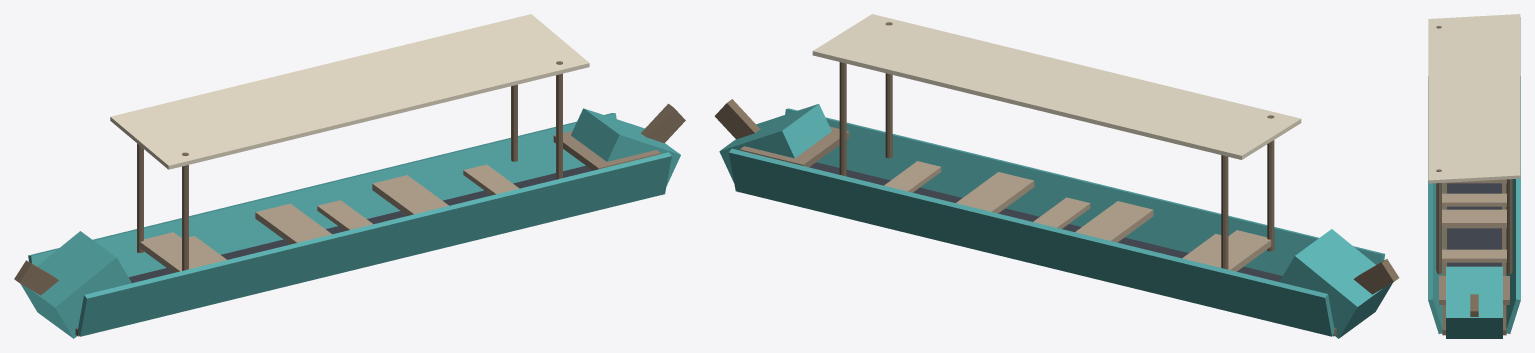
File: canoe_taxi.glb
3 renders of one model, left to right at view 1: azimuth 30°, elevation 25°; view 2: azimuth 150°, elevation 25°; view 3: azimuth 270°, elevation 25°, orthographic. The views are drawn at different scales.
Parts seen in each view (by area): view 1: MK_canoe_taxi; view 2: MK_canoe_taxi; view 3: MK_canoe_taxi.
Boxes of the visible parts, <box> form: MK_canoe_taxi: <box>14,14,685,338</box>; MK_canoe_taxi: <box>714,14,1399,338</box>; MK_canoe_taxi: <box>1428,14,1520,338</box>.
Size of the model in its own units: 8.55 by 2.05 by 1.31.
